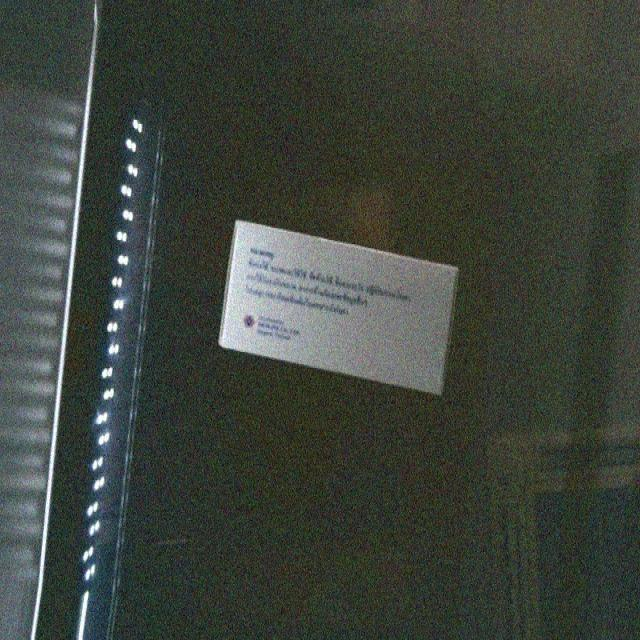sefloc: (207, 218, 469, 396)
